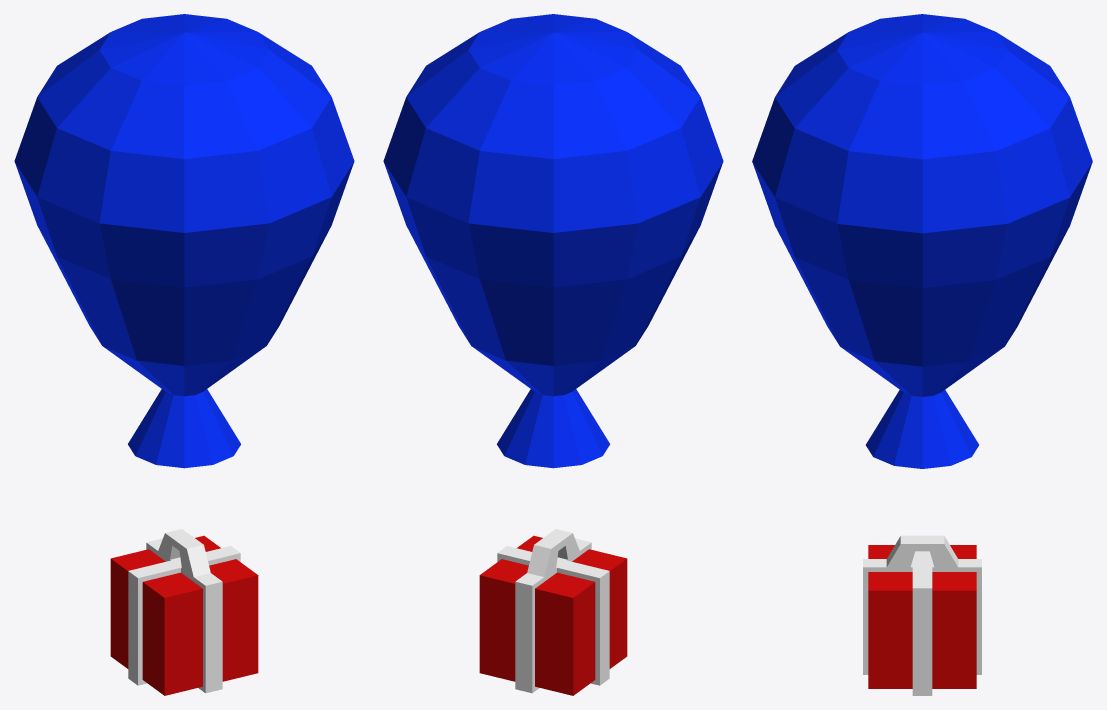
Rendered from Balun.fbx.
3 views of the same model, side by side, from view 1: azimuth 30°, elevation 25°; view 2: azimuth 150°, elevation 25°; view 3: azimuth 270°, elevation 25° (orthographic).
Parts seen in each view (by area): view 1: Balun, Box; view 2: Balun, Box; view 3: Balun, Box.
Part boxes in pixels (x1,y1,x2,y2): Balun: [14, 14, 354, 468]; Box: [110, 529, 258, 695]; Balun: [383, 14, 723, 468]; Box: [479, 529, 627, 695]; Balun: [752, 14, 1092, 468]; Box: [863, 535, 981, 695].
Bounding box in the file's own units: 449 × 928 × 449.
